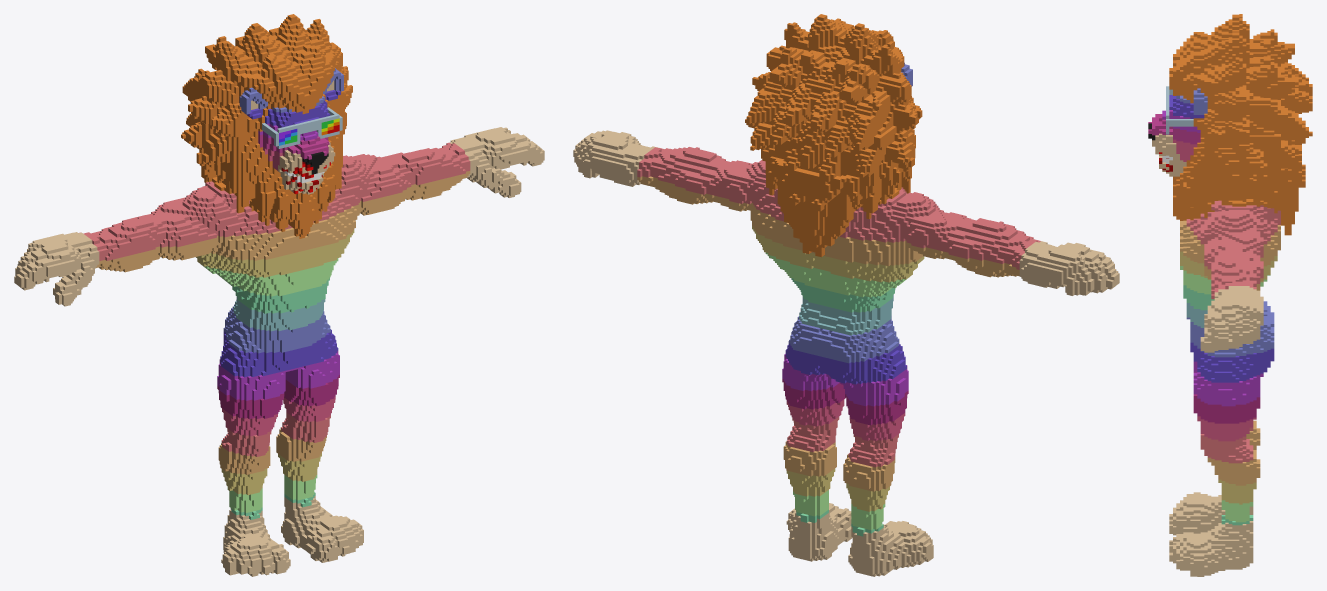
File: 1060-C2ujV1zf.glb
The picture shows the model from 3 angles, left to right: view 1: azimuth 30°, elevation 25°; view 2: azimuth 150°, elevation 25°; view 3: azimuth 270°, elevation 25°; orthographic projection. The views are drawn at different scales.
Visible parts, largest first — view 1: blood; view 2: blood; view 3: blood.
Part boxes in pixels (box(x1,y1,x2,y2)): blood: box(14, 14, 544, 576); blood: box(573, 14, 1119, 576); blood: box(1148, 14, 1312, 576).
Size of the model in its own units: 17.2 by 16.5 by 4.7.
Materials: 4 (4 with a texture image).
